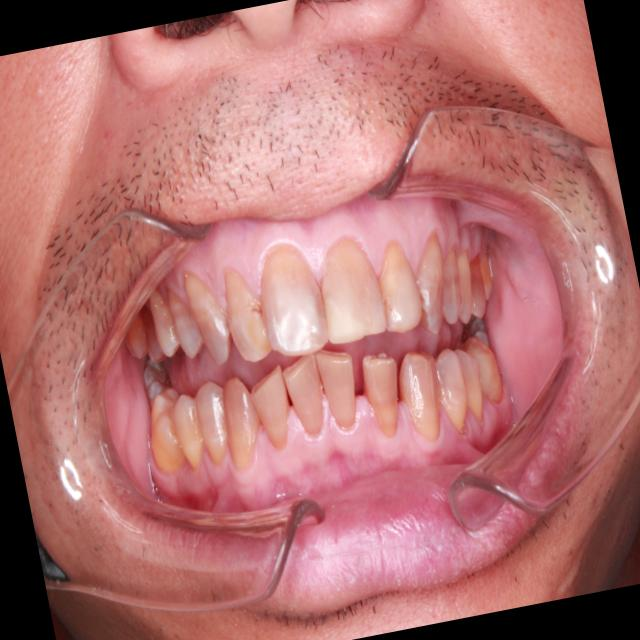tooth: (248, 237, 337, 368), (306, 223, 395, 353), (215, 253, 279, 371), (178, 256, 241, 375), (390, 337, 455, 452), (364, 234, 431, 343), (400, 225, 461, 344), (211, 366, 273, 479), (242, 357, 303, 462), (138, 378, 200, 481), (277, 342, 336, 447), (354, 342, 414, 444), (310, 340, 369, 441), (425, 339, 478, 440), (188, 371, 241, 472), (160, 273, 209, 366), (165, 383, 214, 476), (425, 239, 472, 334), (461, 329, 511, 415), (141, 278, 186, 367), (451, 340, 494, 429), (131, 343, 180, 410), (445, 245, 482, 329), (457, 249, 493, 324), (136, 301, 171, 368), (116, 305, 154, 364), (473, 242, 499, 304)
